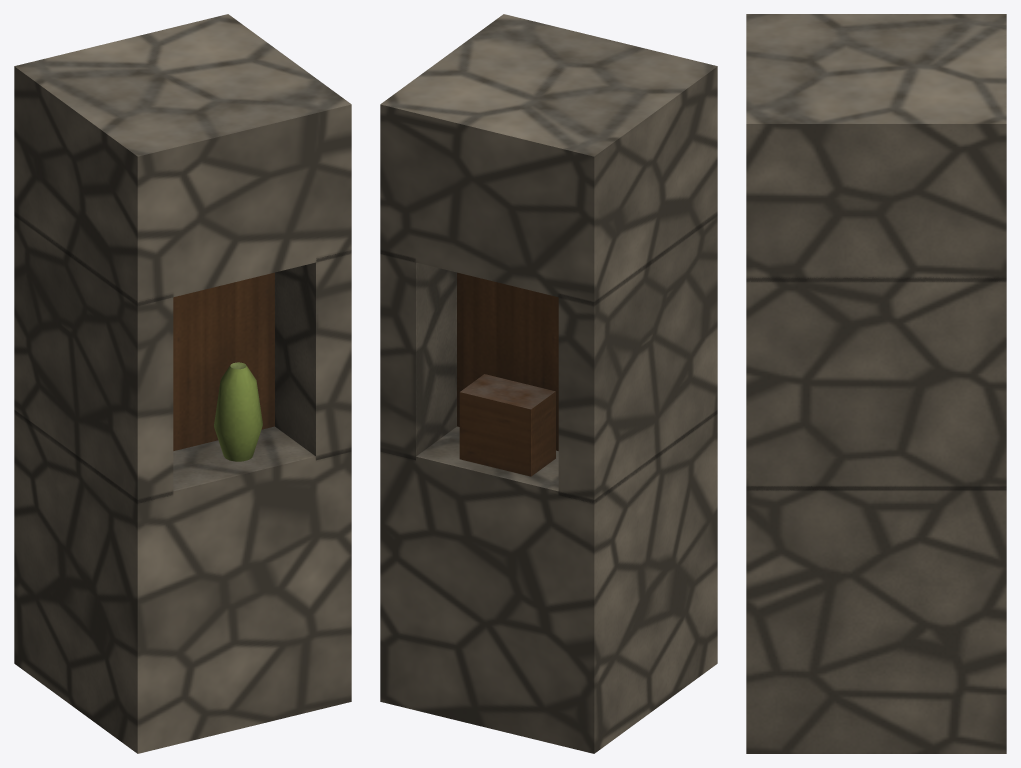
Rendered from H_DisplayColumn.fbx.
3 renders of one model, left to right at view 1: azimuth 30°, elevation 25°; view 2: azimuth 150°, elevation 25°; view 3: azimuth 270°, elevation 25°, orthographic. The views are drawn at different scales.
Parts seen in each view (by area): view 1: H_DisplayColumn; view 2: H_DisplayColumn; view 3: H_DisplayColumn.
Boxes of the visible parts, left/top/right/bottom form: H_DisplayColumn: left=14, top=14, right=351, bottom=753; H_DisplayColumn: left=380, top=14, right=717, bottom=753; H_DisplayColumn: left=746, top=14, right=1006, bottom=753.
Bounding box in the file's own units: 300 × 800 × 300.
Materials: 1 (1 with a texture image).
